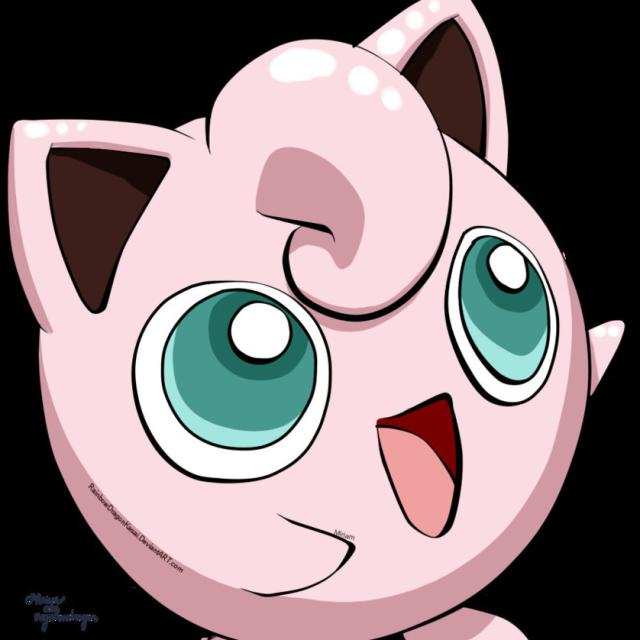Jigglypuff: (11, 17, 630, 640)
